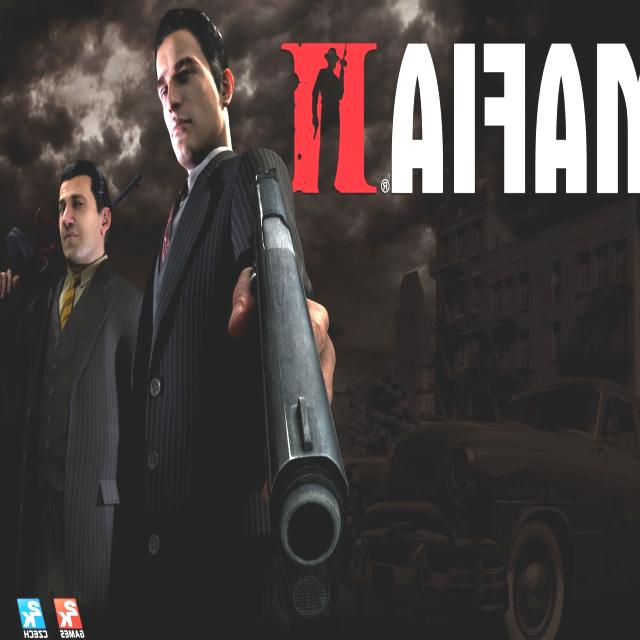pistol: (232, 149, 360, 605)
